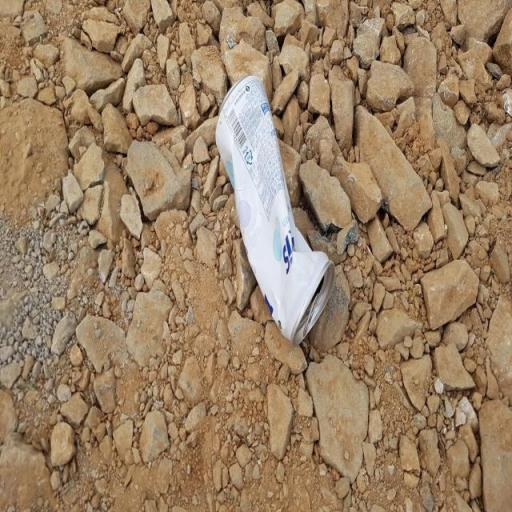metal: (210, 60, 340, 358)
